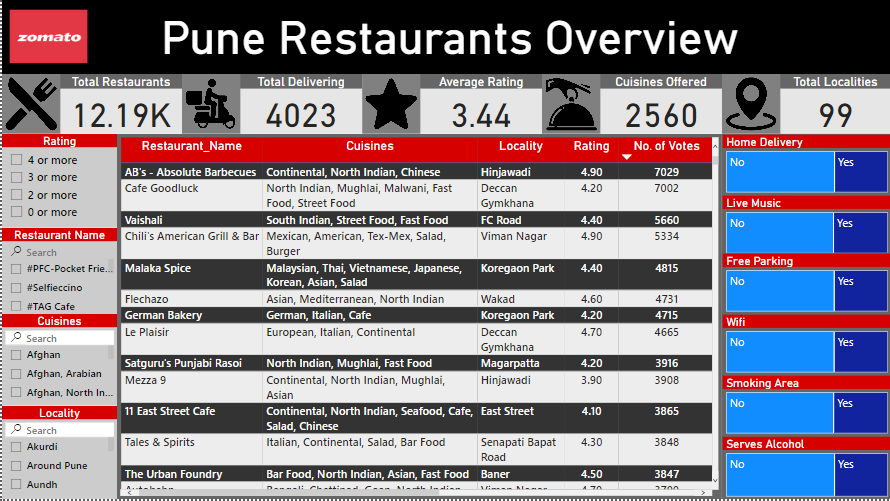

Layout of this report page (visuals, bound fields, positions):
{"tool":"powerbi","page":{"name":"Restaurants Overview Report","canvas":[1280,720],"ordinal":1},"visuals":[{"type":"shape","box":[0,0,1280.2,108],"z":0},{"type":"image","box":[10.1,14.4,113.8,79.2],"z":1000},{"type":"card","title":"Total Restaurants","fields":{"Values":["CountNonNull(zomato_pune_V002.Restaurant_Name)"]},"box":[83.6,108,175.7,86.5],"z":2000},{"type":"image","box":[0,108,83.6,86.5],"z":3000},{"type":"card","title":"Cuisines Offered","fields":{"Values":["Count(zomato_pune_V002.Cuisines)"]},"box":[861.7,108,175.7,86.5],"z":4000},{"type":"card","title":"Total Localities","fields":{"Values":["Count(zomato_pune_V002.Locality)"]},"box":[1120.3,108,159.8,86.4],"z":5000},{"type":"card","title":"Average Rating","fields":{"Values":["Avg(zomato_pune_V002.Ratings_out_of_5)"]},"box":[602.4,108,175.7,86.5],"z":6000},{"type":"image","box":[778.1,108,83.6,86.5],"z":7000},{"type":"image","box":[1037.5,108,83.6,86.5],"z":8000},{"type":"image","box":[518.7,108,83.6,86.5],"z":9000},{"type":"card","title":"Total Delivering","fields":{"Values":["CountNonNull(zomato_pune_V002.Home Delivery)"]},"box":[343,108,175.7,86.5],"z":10000},{"type":"image","box":[259.4,108,83.6,86.5],"z":11000},{"type":"slicer","title":"Rating","fields":{"Values":["zomato_pune_V002.Star Rating +"]},"box":[0,194.4,165.6,135.4],"z":12000},{"type":"slicer","title":"Restaurant Name","fields":{"Values":["zomato_pune_V002.Restaurant_Name"]},"box":[0,329.8,165.6,123.8],"z":13000},{"type":"slicer","title":"Cuisines","fields":{"Values":["zomato_pune_V002.Cuisines"]},"box":[0,453.6,165.6,132.5],"z":14000},{"type":"slicer","title":"Locality","fields":{"Values":["zomato_pune_V002.Locality"]},"box":[0,586.1,165.6,133.9],"z":15000},{"type":"tableEx","fields":{"Values":["zomato_pune_V002.Restaurant_Name","zomato_pune_V002.Cuisines","zomato_pune_V002.Locality","zomato_pune_V002.Ratings_out_of_5","zomato_pune_V002.No. of Votes","zomato_pune_V002.Charges_for_two","zomato_pune_V002.Home Delivery","zomato_pune_V002.Live Music","zomato_pune_V002.Serves Alcohol","zomato_pune_V002.Smoking Area","zomato_pune_V002.Wifi"]},"box":[165.6,194.4,871.2,525.6],"z":16000},{"type":"treemap","title":"Home Delivery","fields":{"Group":["zomato_pune_V002.Home Delivery"],"Values":["CountNonNull(zomato_pune_V002.Restaurant_Name)"]},"box":[1036.8,194.4,243.4,87.8],"z":17000},{"type":"treemap","title":"Live Music","fields":{"Group":["zomato_pune_V002.Live Music"],"Values":["CountNonNull(zomato_pune_V002.Restaurant_Name)"]},"box":[1036.8,282.2,243.4,87.8],"z":18000},{"type":"treemap","title":"Free Parking","fields":{"Group":["zomato_pune_V002.Free Parking"],"Values":["CountNonNull(zomato_pune_V002.Restaurant_Name)"]},"box":[1036.8,365.8,243.4,87.8],"z":19000},{"type":"treemap","title":"Wifi","fields":{"Group":["zomato_pune_V002.Wifi"],"Values":["CountNonNull(zomato_pune_V002.Restaurant_Name)"]},"box":[1036.8,453.6,243.4,87.8],"z":20000},{"type":"treemap","title":"Serves Alcohol","fields":{"Group":["zomato_pune_V002.Home Delivery","zomato_pune_V002.Live Music","zomato_pune_V002.Free Parking","zomato_pune_V002.Wifi","zomato_pune_V002.Smoking Area","zomato_pune_V002.Serves Alcohol"],"Values":["CountNonNull(zomato_pune_V002.Restaurant_Name)"]},"box":[1036.8,629.3,243.4,90.7],"z":21000},{"type":"treemap","title":"Smoking Area","fields":{"Group":["zomato_pune_V002.Smoking Area"],"Values":["CountNonNull(zomato_pune_V002.Restaurant_Name)"]},"box":[1036.8,541.4,243.4,87.8],"z":22000}]}

Visuals, with their boxes in screenshot pixels (x1, y1, x2, y2), scaled from the page's 1280x720 canvas onto the 890x501 screenshot:
shape: region(0, 0, 889, 75)
image: region(7, 10, 86, 65)
"Total Restaurants" card: region(58, 75, 180, 135)
image: region(0, 75, 58, 135)
"Cuisines Offered" card: region(599, 75, 721, 135)
"Total Localities" card: region(779, 75, 889, 135)
"Average Rating" card: region(419, 75, 541, 135)
image: region(541, 75, 599, 135)
image: region(721, 75, 780, 135)
image: region(361, 75, 419, 135)
"Total Delivering" card: region(238, 75, 361, 135)
image: region(180, 75, 238, 135)
"Rating" slicer: region(0, 135, 115, 229)
"Restaurant Name" slicer: region(0, 229, 115, 316)
"Cuisines" slicer: region(0, 316, 115, 408)
"Locality" slicer: region(0, 408, 115, 500)
tableEx - zomato_pune_V002.Restaurant_Name x zomato_pune_V002.Cuisines: region(115, 135, 721, 500)
"Home Delivery" treemap: region(721, 135, 889, 196)
"Live Music" treemap: region(721, 196, 889, 257)
"Free Parking" treemap: region(721, 255, 889, 316)
"Wifi" treemap: region(721, 316, 889, 377)
"Serves Alcohol" treemap: region(721, 438, 889, 500)
"Smoking Area" treemap: region(721, 377, 889, 438)
